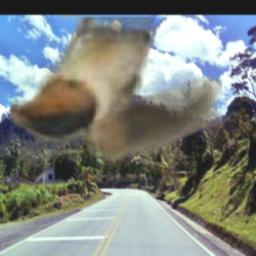Swallow: (9, 18, 221, 161)
